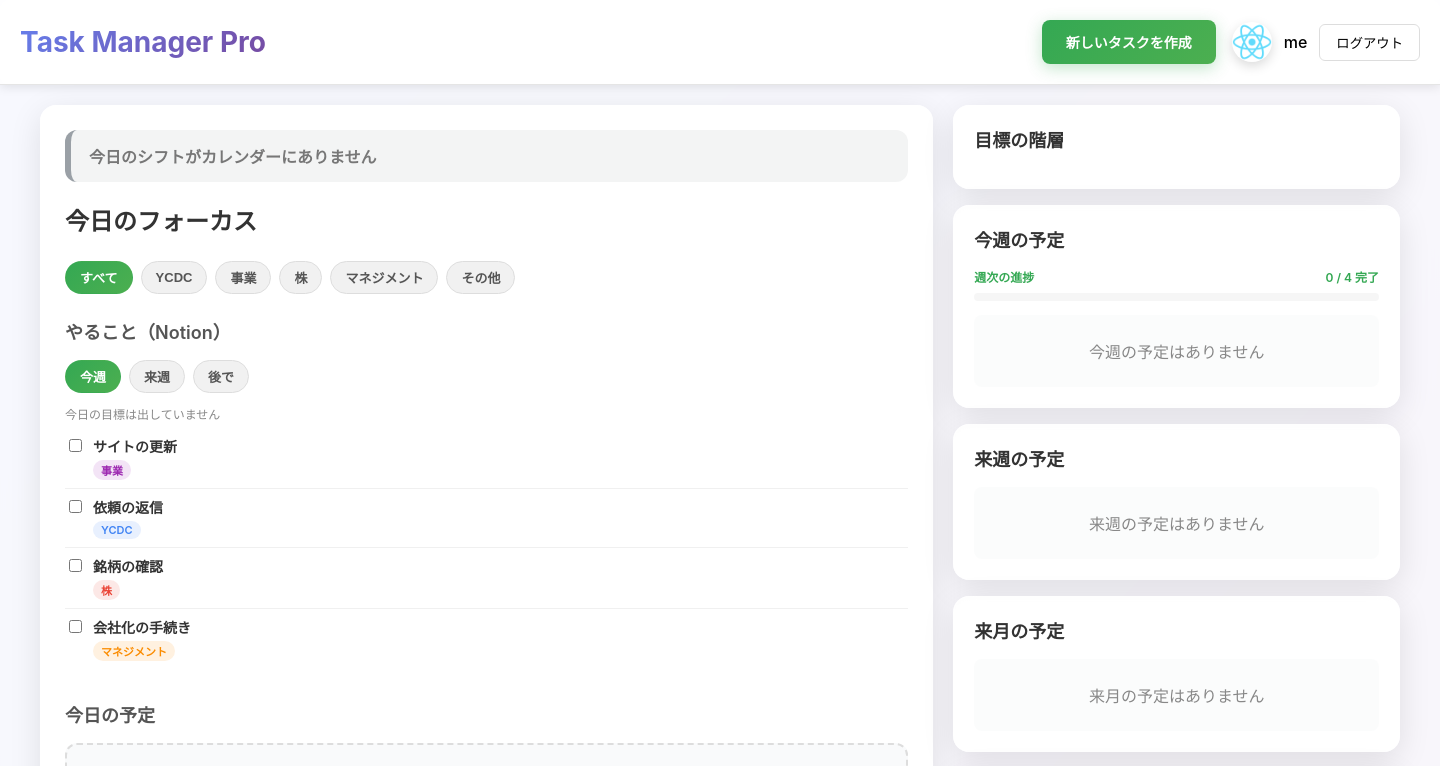
Test: clicking a category button (事業) leaves only the やること rows whose 事業 is Webサイト
Expected: the text "サイトの更新" is shown, [93,438,177,455]
Expected: the text "依頼の返信" is shown, [93,499,163,516]
Click the button "事業" at (243, 278), box [215,261,271,294]
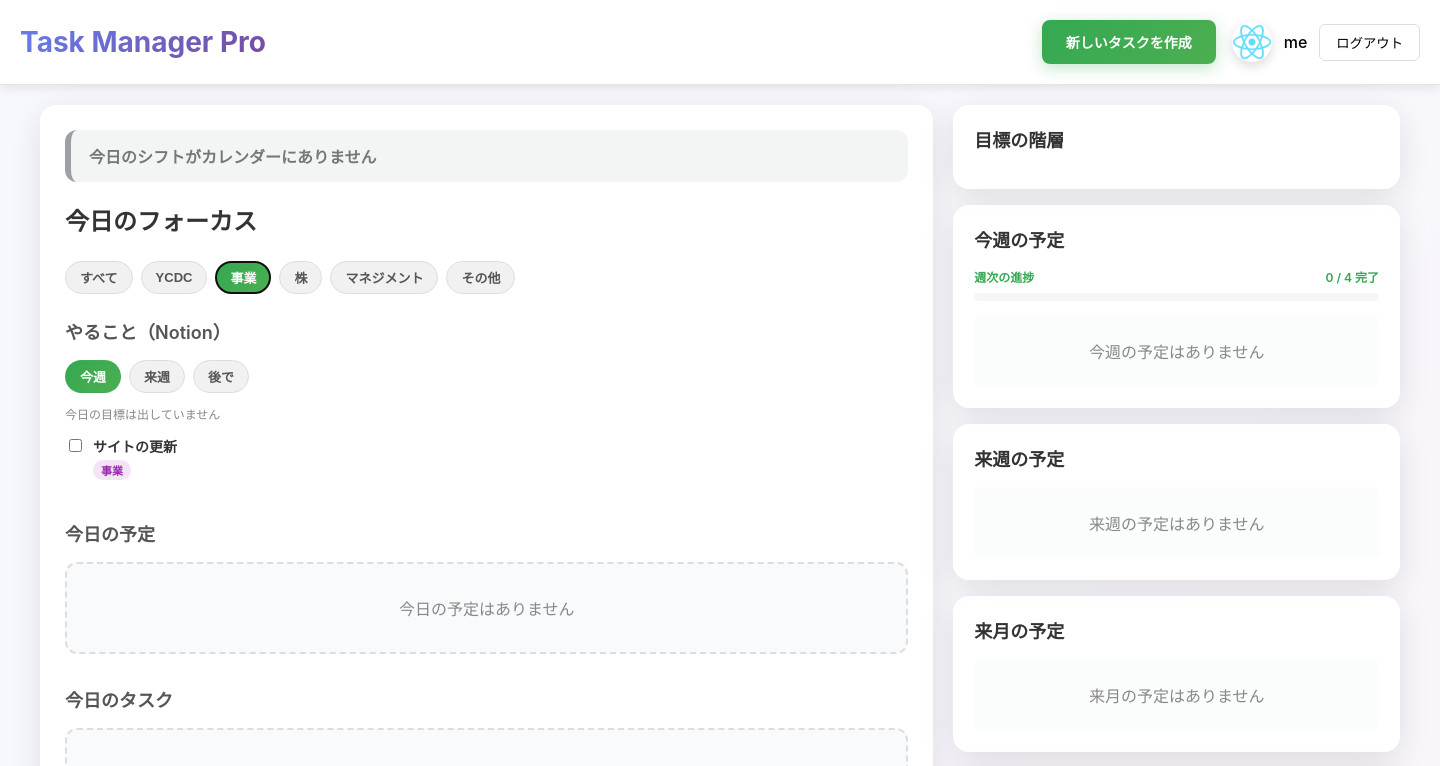
Result: the button "依頼の返信" is gone
Result: the button "銘柄の確認" is gone
Result: the button "会社化の手続き" is gone
Click the button "マネジメント" at (384, 278), box [330,261,438,294]
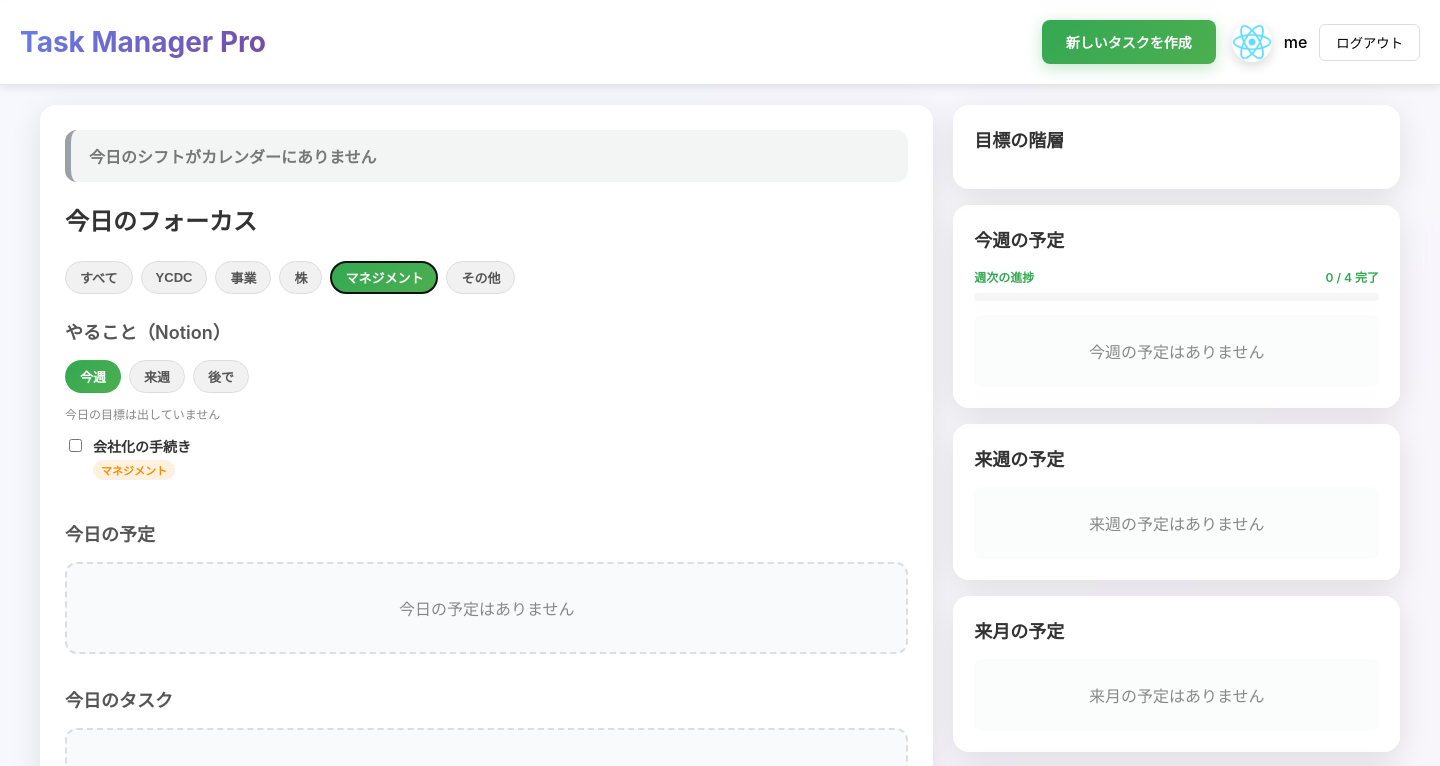
Result: the text "会社化の手続き" is shown at [93,438,191,455]
Result: the button "サイトの更新" is gone
Click the button "すべて" at (99, 278), box [65,261,133,294]
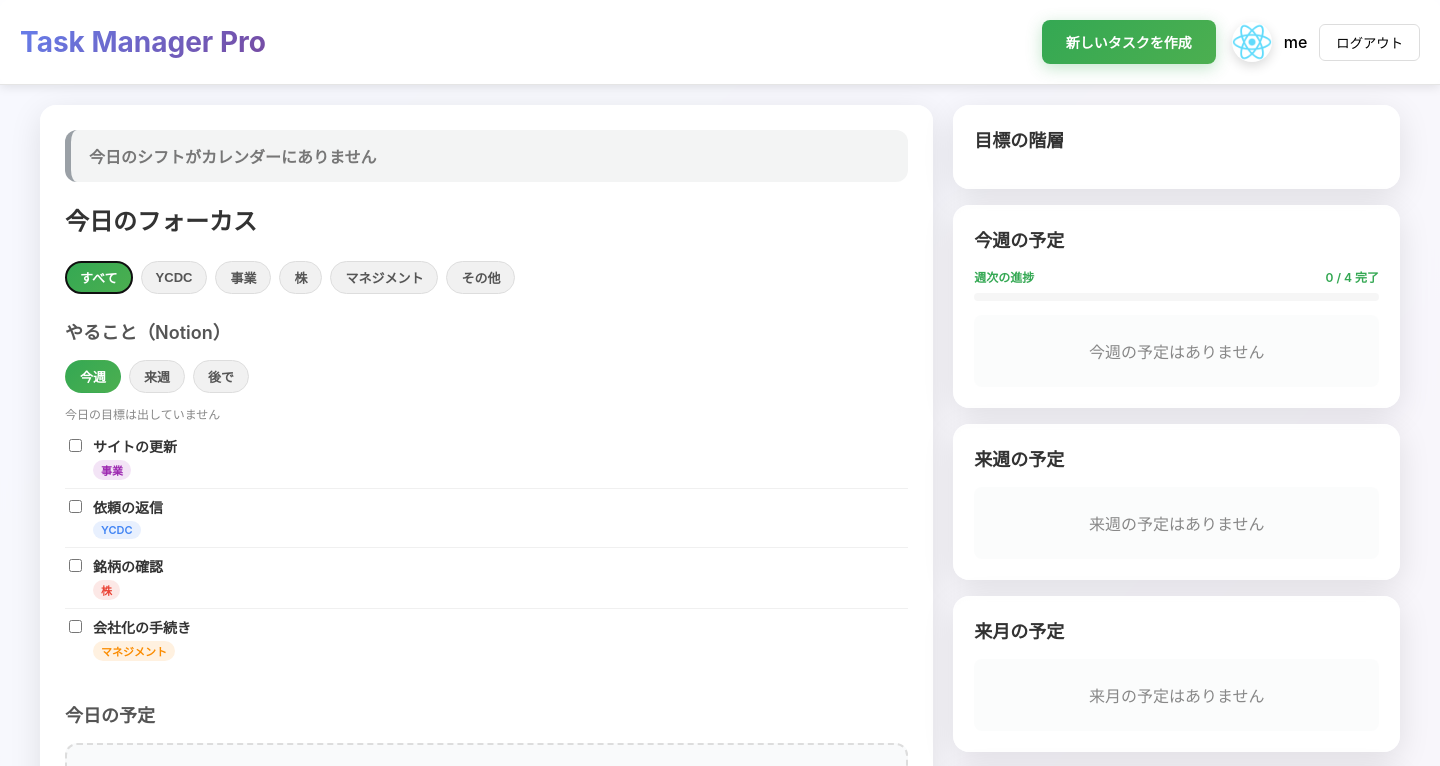
Result: the text "銘柄の確認" is shown at [93,558,163,575]
